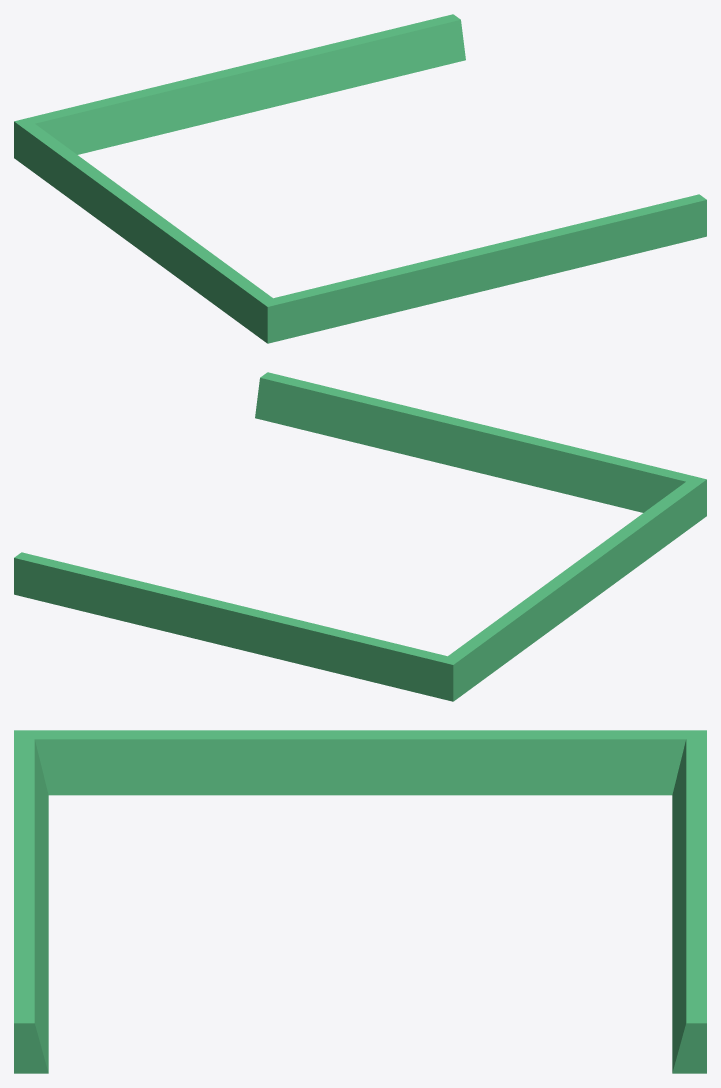
The model's file is road_end_barrier.glb.
The picture shows the model from 3 angles, top to bottom: view 1: azimuth 30°, elevation 25°; view 2: azimuth 150°, elevation 25°; view 3: azimuth 270°, elevation 25°; orthographic projection. The views are drawn at different scales.
Visible parts, largest first — view 1: road-end-barrier; view 2: road-end-barrier; view 3: road-end-barrier.
Boxes of the visible parts, <box> form: road-end-barrier: <box>14,14,706,343</box>; road-end-barrier: <box>14,372,706,701</box>; road-end-barrier: <box>14,730,706,1073</box>.
Bounding box in the file's own units: 1 × 0.08 × 1.
Materials: 1 (1 with a texture image).
